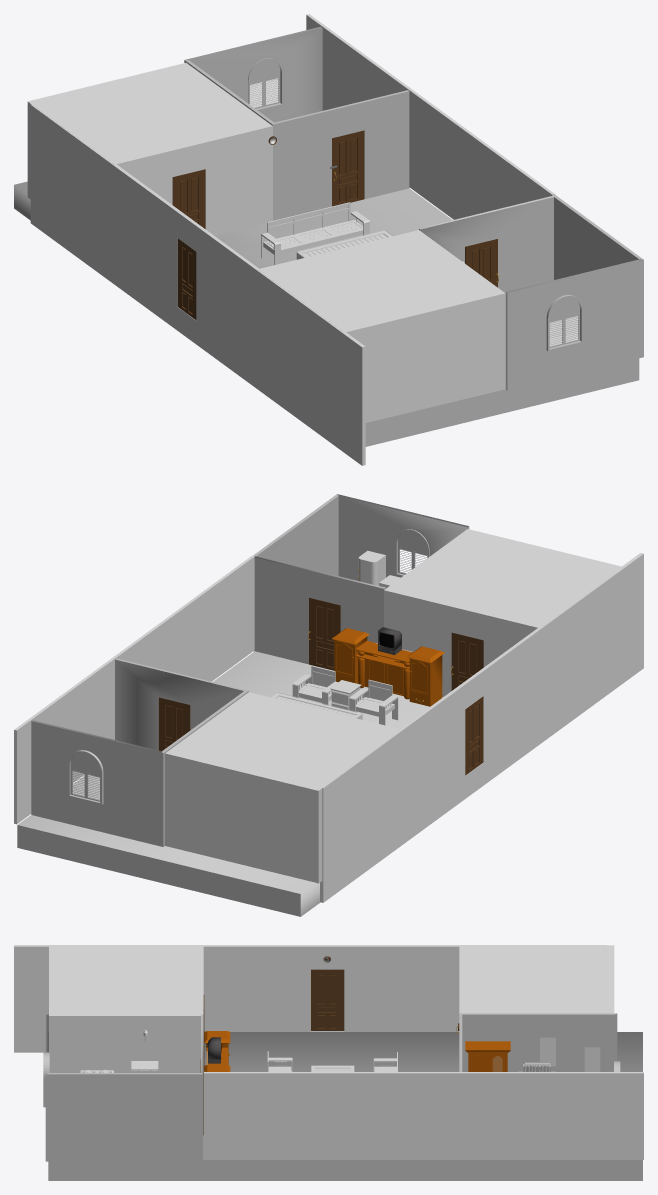
The model's file is MainFix 1.fbx.
3 views of the same model, one above another, from view 1: azimuth 30°, elevation 25°; view 2: azimuth 150°, elevation 25°; view 3: azimuth 270°, elevation 25° (orthographic). The views are drawn at different scales.
Visible parts, largest first — view 1: Cube.004, Cube, Cube.003, Wall.002, Wall.001, Wall, Floor, Wall.004, Cube.014, Door.003, Wall.003, Door.001 (+4 smaller); view 2: Cube.004, Cube.003, Cube, Wall.001, Floor, Wall, Wall.002, Cube.052, Wall.004, Door.004, Wall.003, Door.002 (+7 smaller); view 3: Wall, Cube.004, Floor, Cube, Wall.004, Cube.003, Wall.001, Door, Cupboard, Cube.052, Plane, Plane.001 (+1 smaller).
Boxes of the visible parts, x1=… form: Cube.004: x1=30, y1=104, x2=365, y2=465; Cube: x1=258, y1=230, x2=505, y2=422; Cube.003: x1=27, y1=63, x2=272, y2=235; Wall.002: x1=419, y1=195, x2=643, y2=390; Wall.001: x1=184, y1=26, x2=409, y2=220; Wall: x1=306, y1=14, x2=555, y2=219; Floor: x1=14, y1=181, x2=639, y2=446; Wall.004: x1=554, y1=195, x2=643, y2=279; Cube.014: x1=261, y1=202, x2=369, y2=264; Door.003: x1=330, y1=130, x2=364, y2=206; Wall.003: x1=248, y1=58, x2=283, y2=110; Door.001: x1=172, y1=169, x2=205, y2=228; Cube.004: x1=320, y1=553, x2=643, y2=902; Cube.003: x1=165, y1=692, x2=401, y2=883; Cube: x1=384, y1=529, x2=623, y2=696; Wall.001: x1=31, y1=658, x2=248, y2=846; Floor: x1=17, y1=651, x2=442, y2=916; Wall: x1=14, y1=556, x2=254, y2=824; Wall.002: x1=253, y1=494, x2=469, y2=664; Cube.052: x1=332, y1=628, x2=444, y2=706; Wall.004: x1=253, y1=494, x2=338, y2=575; Door.004: x1=308, y1=597, x2=340, y2=670; Wall.003: x1=68, y1=750, x2=103, y2=804; Door.002: x1=451, y1=632, x2=483, y2=690; Wall: x1=204, y1=1072, x2=643, y2=1159; Cube.004: x1=14, y1=945, x2=606, y2=1052; Floor: x1=48, y1=1032, x2=642, y2=1180; Cube: x1=49, y1=945, x2=203, y2=1072; Wall.004: x1=45, y1=1073, x2=203, y2=1161; Cube.003: x1=459, y1=945, x2=614, y2=1013; Wall.001: x1=459, y1=1013, x2=617, y2=1071; Door: x1=310, y1=969, x2=344, y2=1030; Cupboard: x1=465, y1=1041, x2=510, y2=1071; Cube.052: x1=204, y1=1031, x2=230, y2=1071; Plane: x1=540, y1=1037, x2=555, y2=1066; Plane.001: x1=584, y1=1047, x2=600, y2=1071.
Size of the model in its own units: 7830 by 3042 by 15943.
